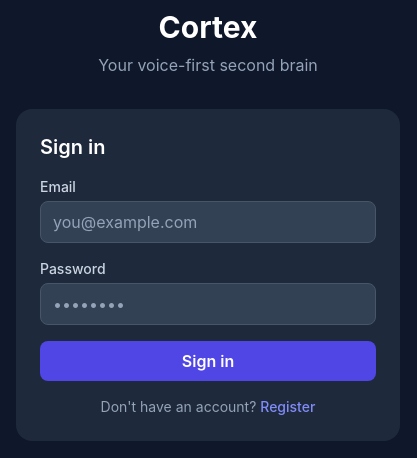
LoginPage (Task 5.3) › disables submit button while the login request is in flight
The image size is (417, 458).
Type "e@e.com" into the field labelled "Email" at (208, 222), box [40, 201, 376, 243]
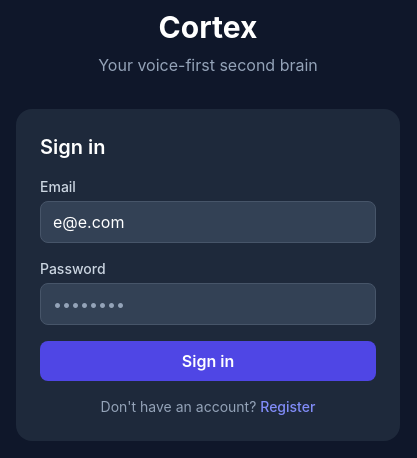
Type "pass" into the password field labelled "Password" at (208, 304), box [40, 283, 376, 325]
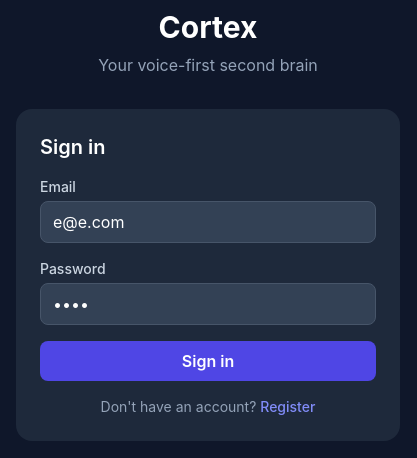
Click the button "Sign in" at (208, 361), box [40, 341, 376, 381]
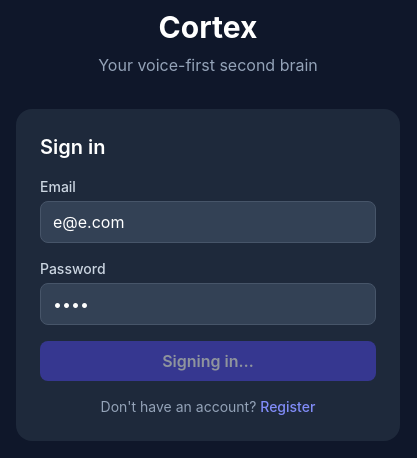
Check: the button "Signing in…" is disabled, box [40, 341, 376, 381]
